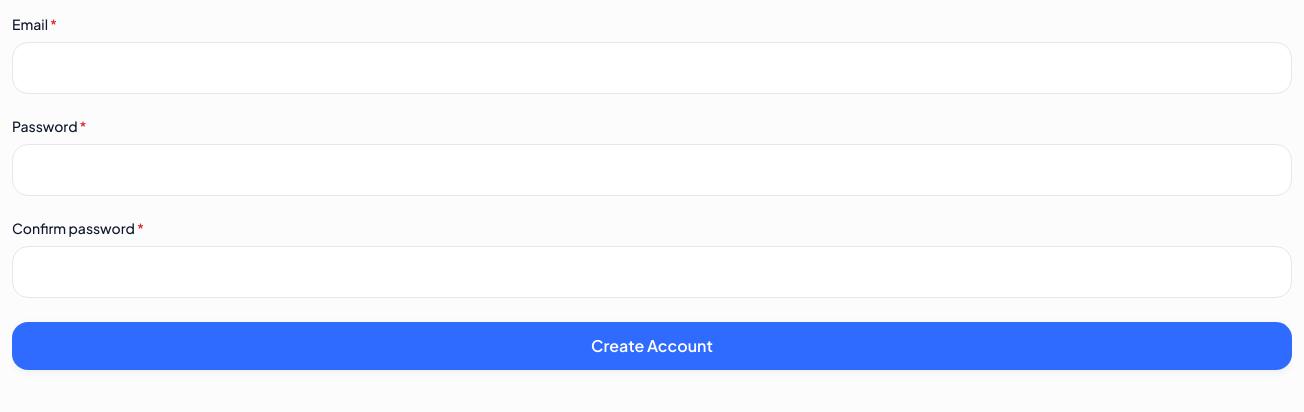
Test: RegisterForm › shows the 8-character password policy message and nothing stricter
This screenshot has width=1304, height=412.
Type "short1" into the password field labelled "Password*" at (652, 170), box x1=12 y1=144 x2=1292 y2=196
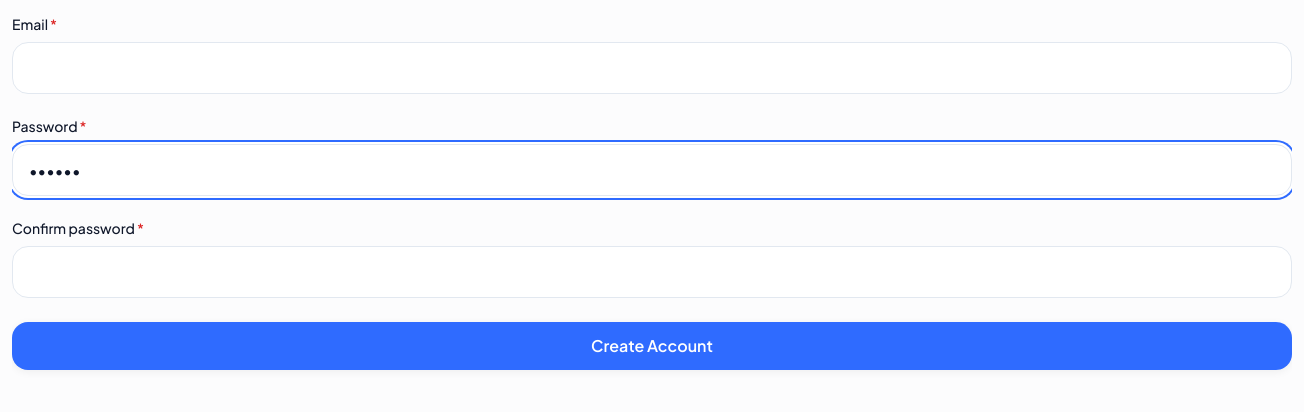
Press Tab
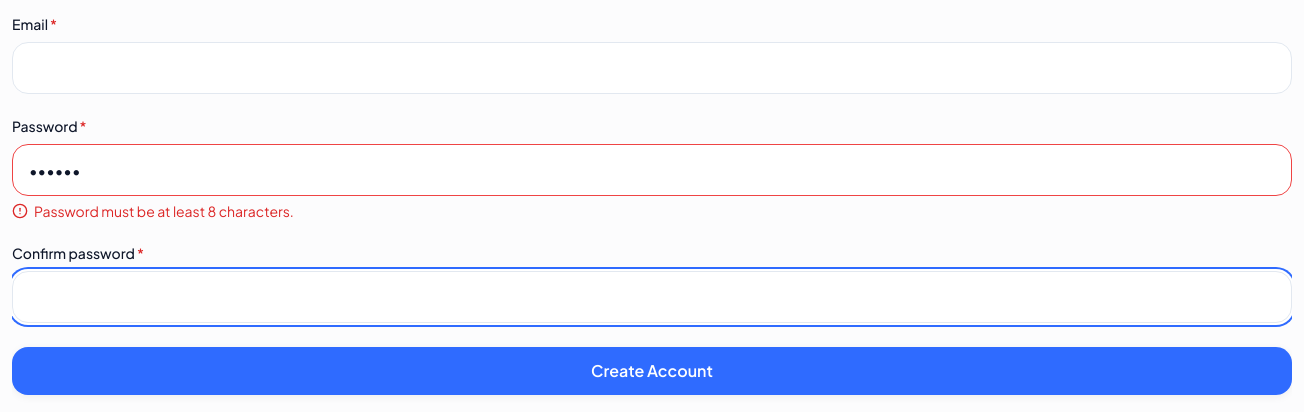
Check: the text "Password must be at least 8 characters." is shown, box x1=34 y1=202 x2=294 y2=221
